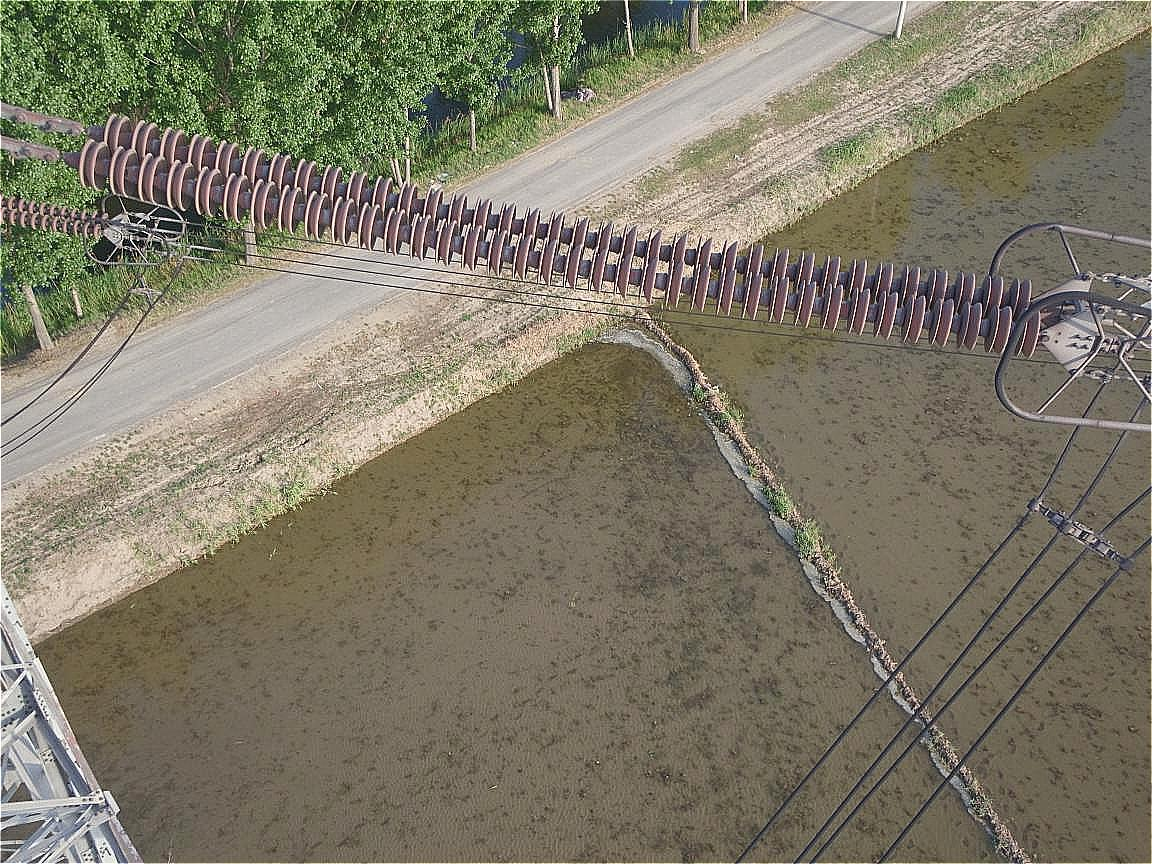insultor2: (46, 104, 1055, 370)
